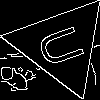U: (36, 20, 95, 70)
